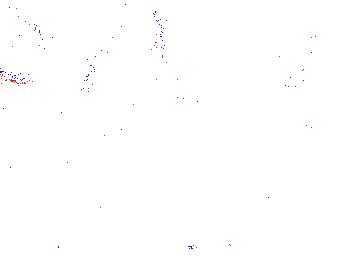moon jellyfish: (82, 56, 186, 121), (83, 4, 161, 78), (297, 25, 346, 138), (1, 8, 46, 85)
